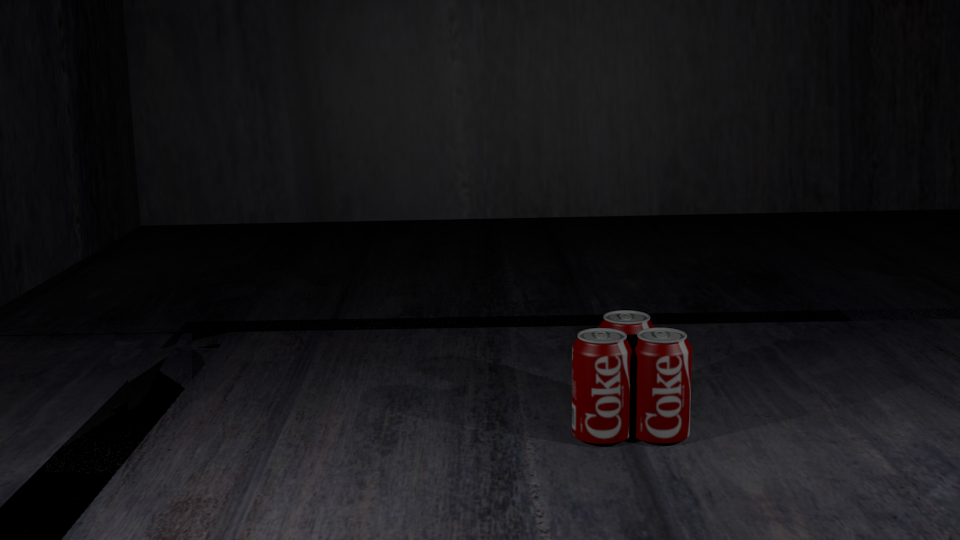cola_can: (572, 328, 631, 441), (631, 328, 691, 439), (599, 311, 654, 417)
